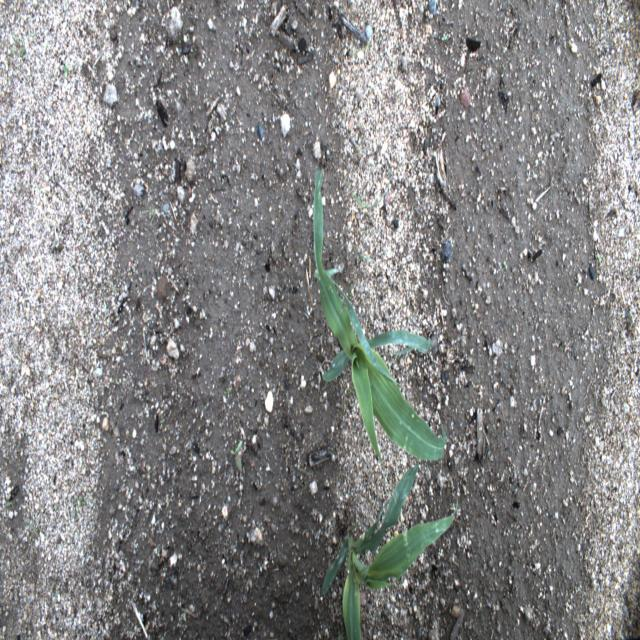crop: (312, 168, 447, 468), (322, 461, 458, 638)
weed: (342, 166, 392, 211), (2, 30, 36, 56), (29, 502, 43, 546), (73, 492, 94, 517), (229, 441, 243, 474), (62, 64, 69, 78), (596, 250, 602, 262), (226, 388, 230, 400), (440, 36, 447, 40)
